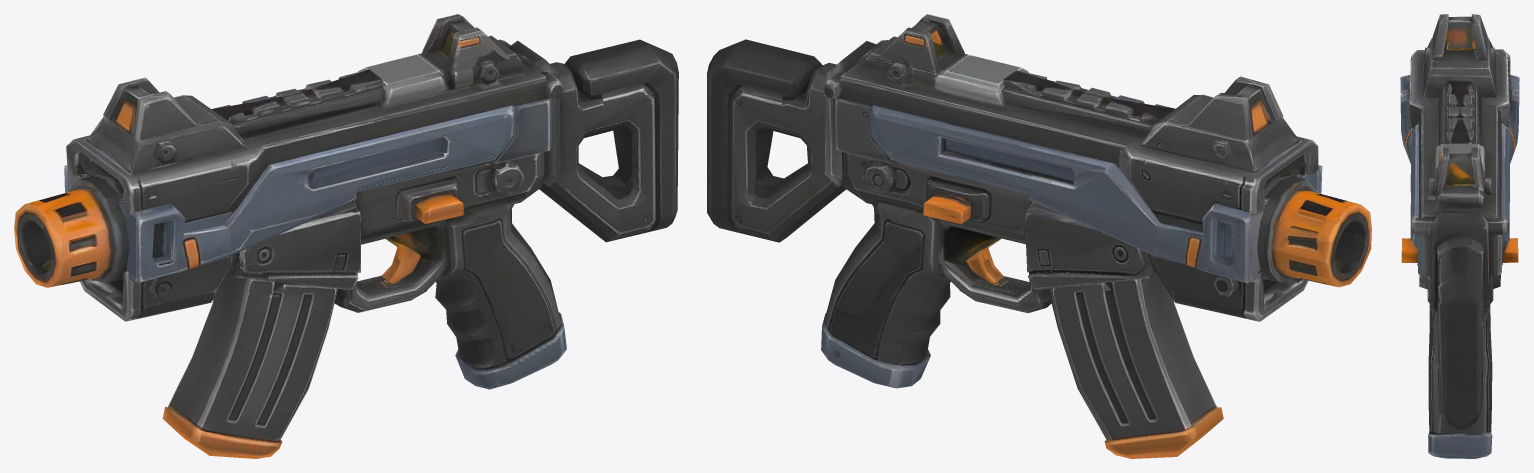
Rendered from submachine_gun.glb.
3 views of the same model, side by side, from view 1: azimuth 30°, elevation 25°; view 2: azimuth 150°, elevation 25°; view 3: azimuth 270°, elevation 25° (orthographic). The views are drawn at different scales.
Visible parts, largest first — view 1: mesh_node; view 2: mesh_node; view 3: mesh_node.
Boxes of the visible parts, x1,y1,x2,y2 form: mesh_node: [14, 14, 678, 458]; mesh_node: [707, 14, 1371, 458]; mesh_node: [1400, 14, 1519, 458].
Size of the model in its own units: 1 by 0.5839 by 0.2046.
1 material, 1 textured.
